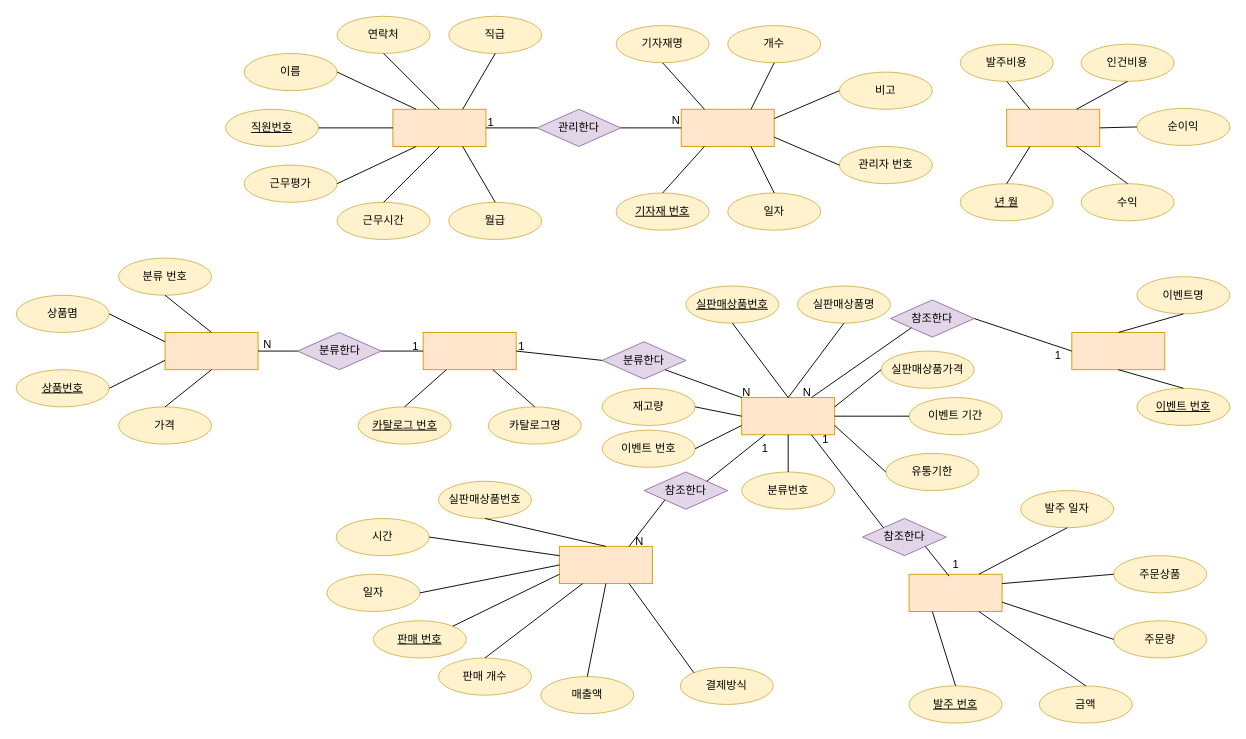
This 1246x739 diagram has some shape labels left out. The shapes that lost their labels are listed below. From the top down, each one's centre as x and y in pixels, then its label:
At point (439, 127): "직원".
At point (727, 127): "기자재".
At point (1053, 127): "월별 이익".
At point (211, 351): "상품".
At point (469, 351): "분류".
At point (1118, 351): "이벤트".
At point (788, 416): "실판매상품".
At point (605, 564): "매출".
At point (955, 592): "발주".
